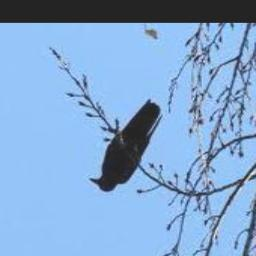Crow: (89, 98, 163, 193)
